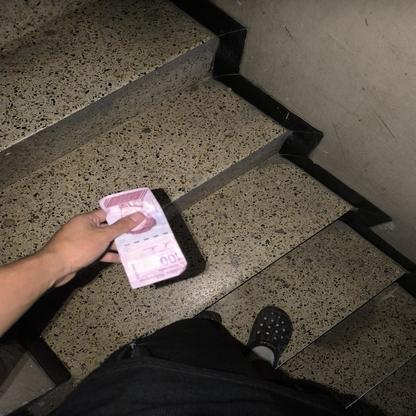vef_front: (98, 187, 188, 290)
